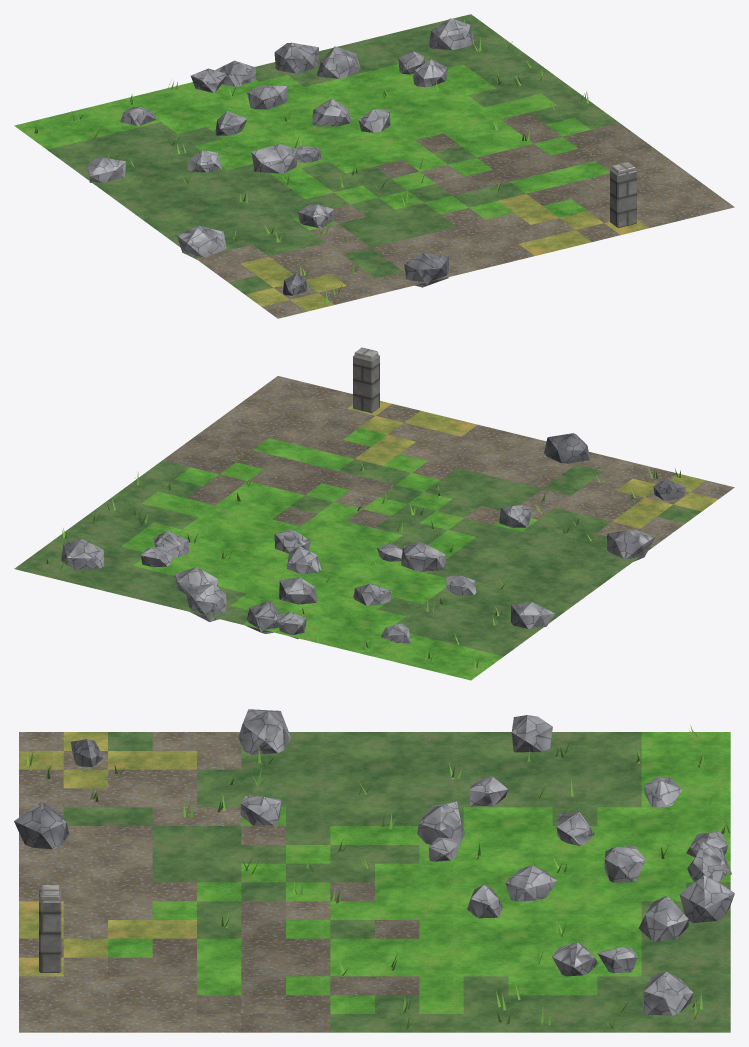
Rendered from chunk_9_16.glb.
3 renders of one model, top to bottom at view 1: azimuth 30°, elevation 25°; view 2: azimuth 150°, elevation 25°; view 3: azimuth 270°, elevation 25°, orthographic. The views are drawn at different scales.
Parts seen in each view (by area): view 1: chunk_9_16; view 2: chunk_9_16; view 3: chunk_9_16.
Boxes of the visible parts, box(x1,y1,x2,y2) form: chunk_9_16: box(14, 14, 734, 318); chunk_9_16: box(14, 347, 734, 680); chunk_9_16: box(14, 709, 734, 1032).
Size of the model in its own units: 16.19 by 2.42 by 16.21.
Materials: 10 (9 with a texture image).
